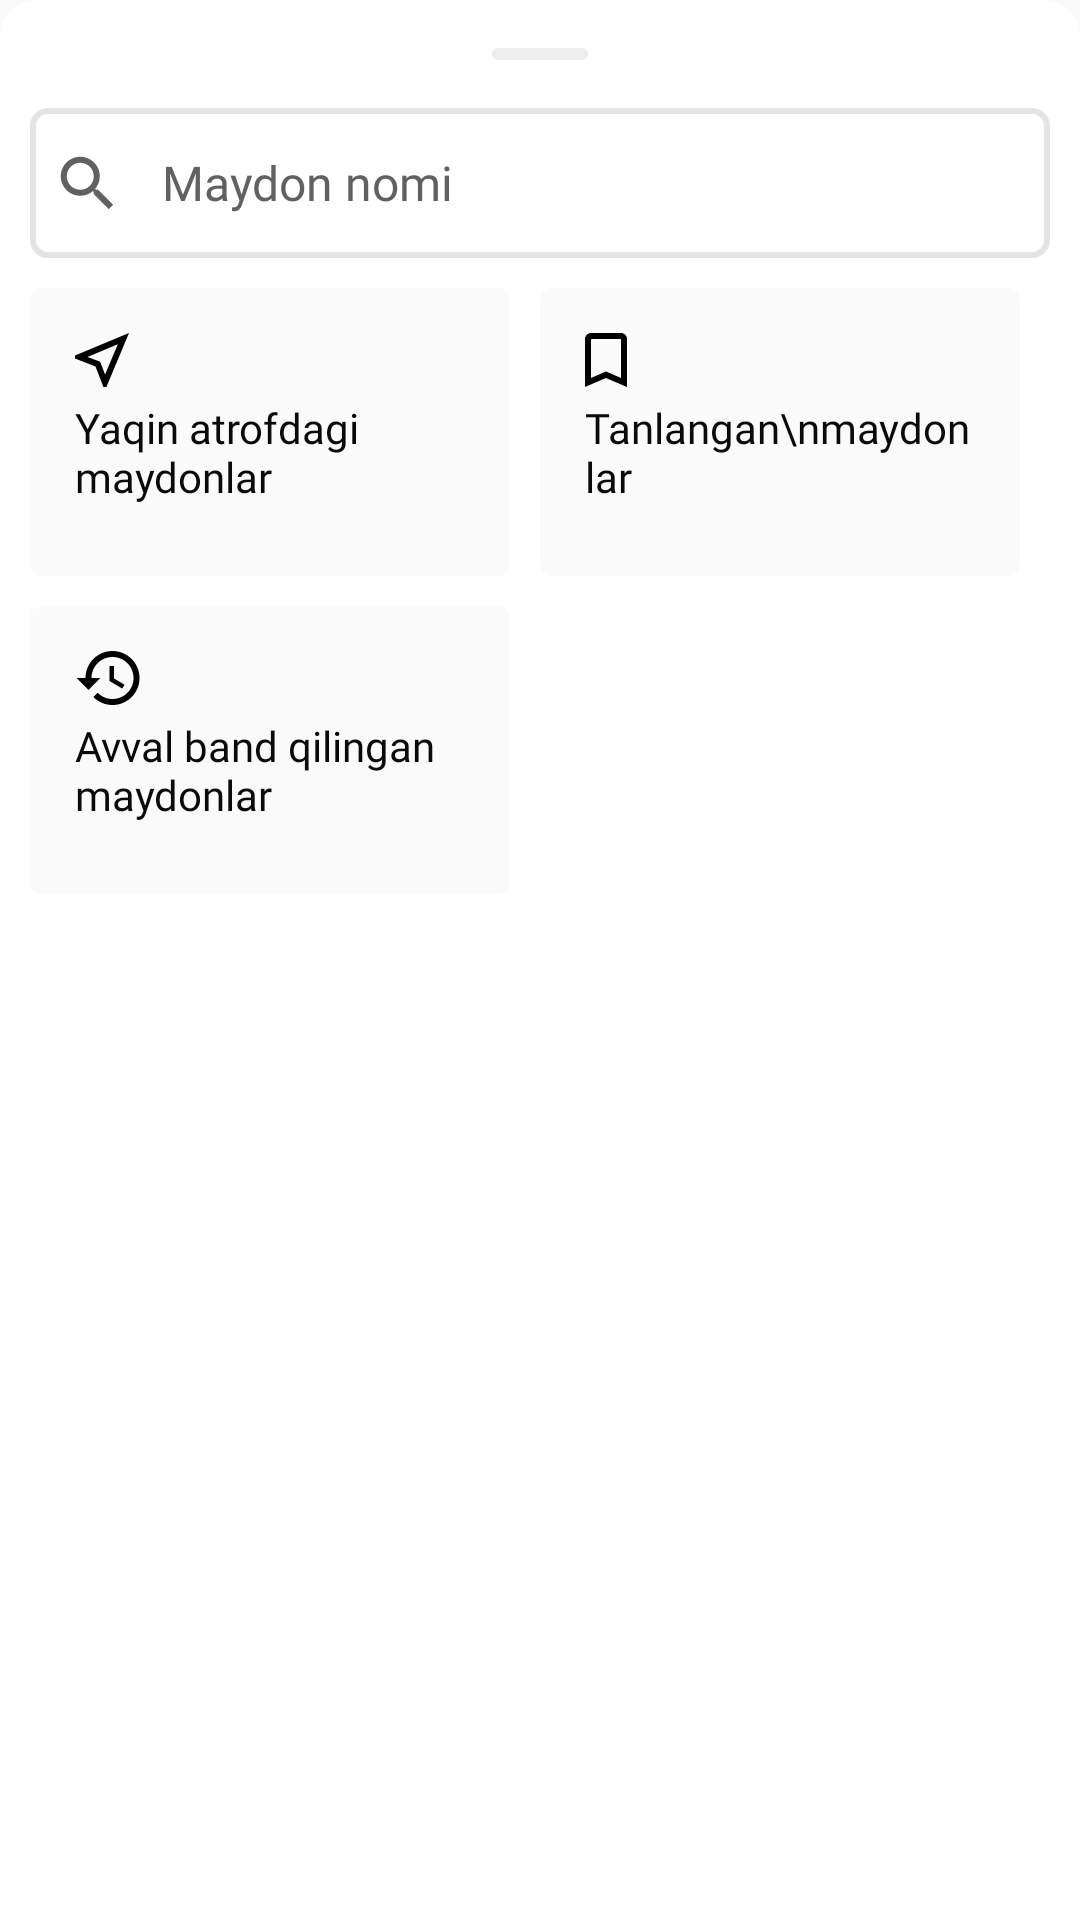

Icons on this 1080x1920 Android screen, each with the point to tap as point (x, y):
bookmark border: point (606, 360)
history: point (108, 678)
near me: point (102, 360)
